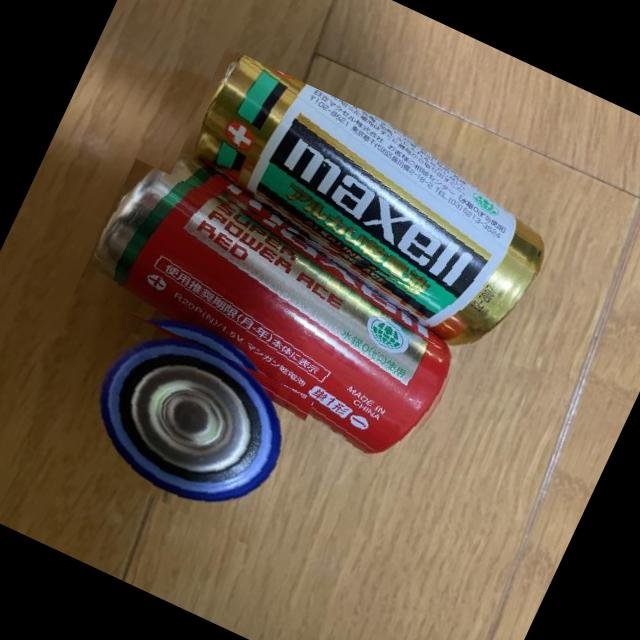Hazard: (146, 46, 572, 378), (58, 158, 480, 484), (50, 308, 314, 546)
